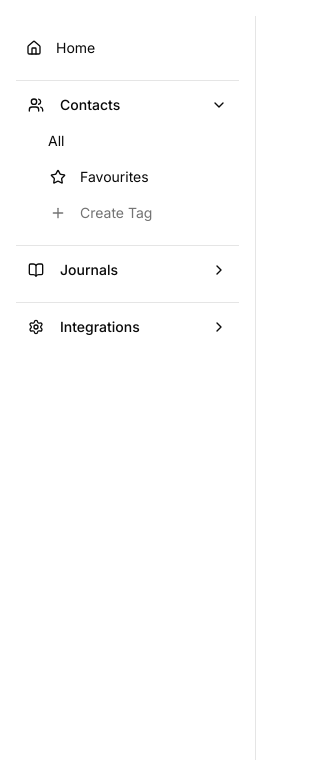
Sidebar - Journal Tags › renders a flat journal tag linking to the journals tag filter
This screenshot has width=320, height=760.
Click the button "Journals" at (128, 270), box [16,254,239,286]
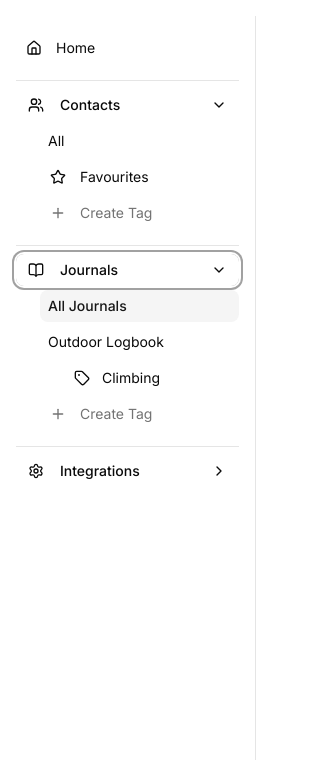
Result: the text "Climbing" is shown at [102,368,160,388]
